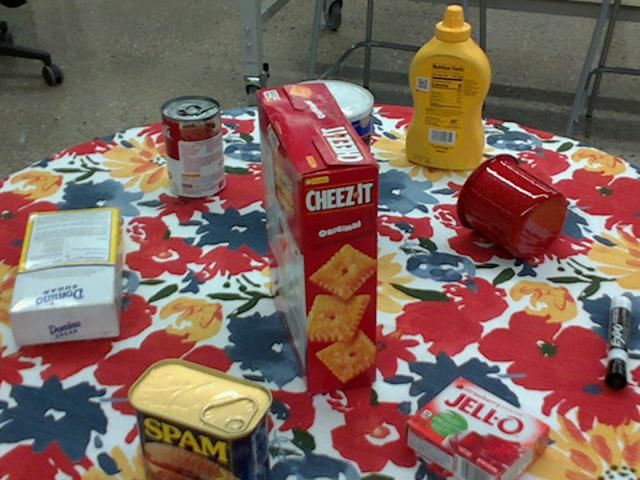cracker_box: (255, 85, 375, 396)
gelatin_box: (405, 376, 550, 479)
large_marker: (605, 293, 631, 385)
master_chef_can: (275, 79, 372, 236)
mug: (455, 153, 567, 258)
mustard_bottle: (405, 7, 489, 170)
potted_meat_can: (124, 359, 269, 479)
sugar_box: (9, 210, 123, 344)
tomato_soup_can: (160, 96, 224, 199)
tuna_fish_can: (281, 116, 349, 168)
